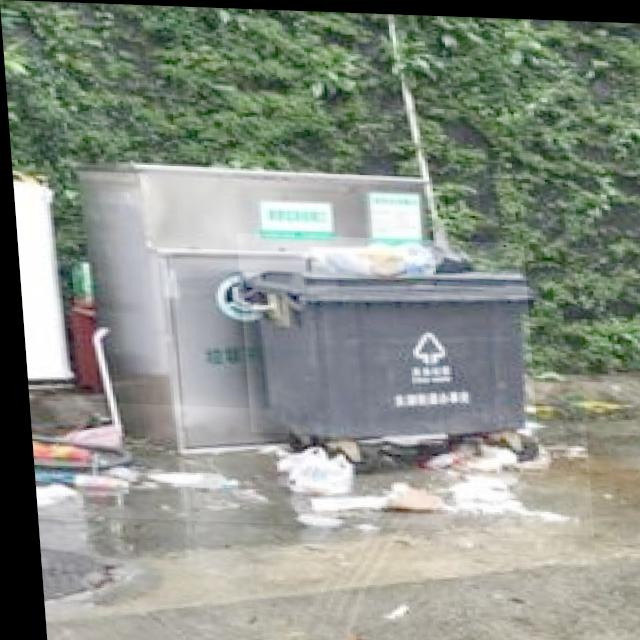garbage: (23, 400, 586, 531)
overflow: (233, 231, 532, 439)
